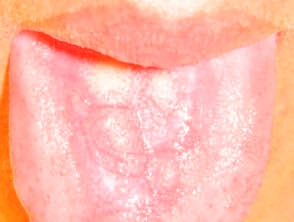SJS-TEN: (60, 61, 203, 219)
